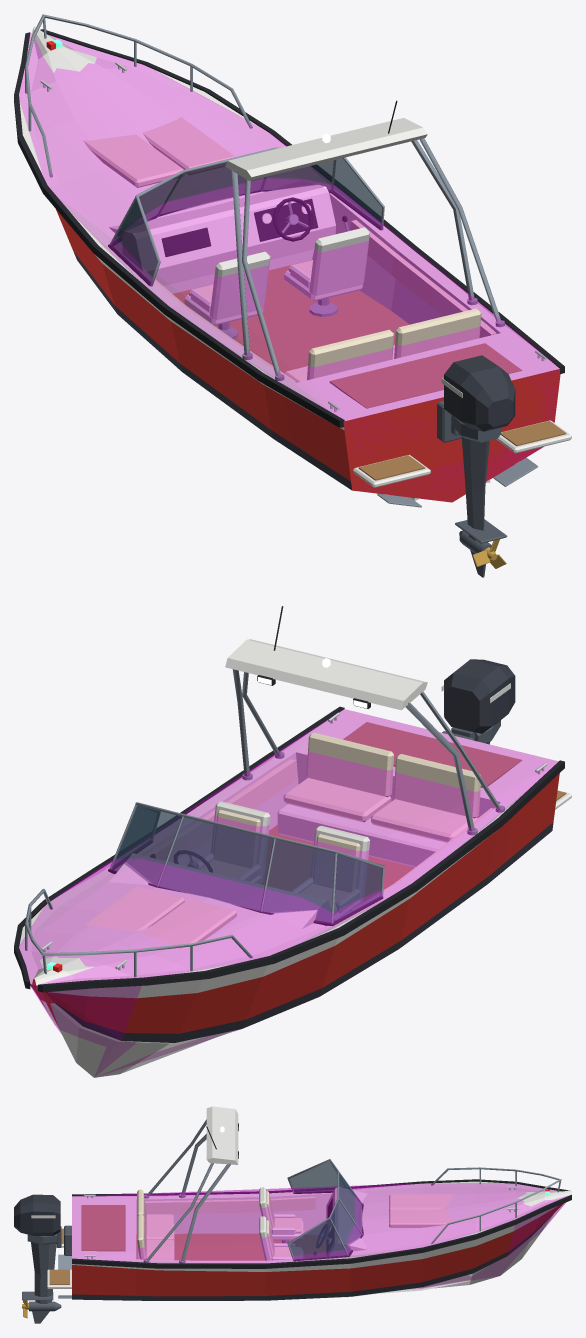
Rendered from speedboat.glb.
3 views of the same model, one above another, from view 1: azimuth 30°, elevation 25°; view 2: azimuth 150°, elevation 25°; view 3: azimuth 270°, elevation 25° (orthographic). The views are drawn at different scales.
Visible parts, largest first — view 1: Body, Col_Body, Motor, Glass_Windshield, SteeringWheel; view 2: Body, Col_Body, Glass_Windshield, Motor; view 3: Body, Col_Body, Glass_Windshield, Motor.
Part boxes in pixels (bbox=[...]): Body: bbox=[14, 14, 571, 507]; Col_Body: bbox=[19, 33, 559, 500]; Motor: bbox=[441, 355, 515, 577]; Glass_Windshield: bbox=[111, 158, 381, 282]; SteeringWheel: bbox=[273, 197, 312, 241]; Body: bbox=[14, 606, 571, 1077]; Col_Body: bbox=[19, 709, 557, 1076]; Glass_Windshield: bbox=[111, 805, 383, 922]; Motor: bbox=[441, 659, 515, 744]; Body: bbox=[47, 1106, 571, 1300]; Col_Body: bbox=[72, 1183, 566, 1289]; Glass_Windshield: bbox=[289, 1161, 362, 1259]; Motor: bbox=[14, 1194, 61, 1323].
Size of what is drawn, in the model's own units: 2.43 by 3.29 by 7.79.
